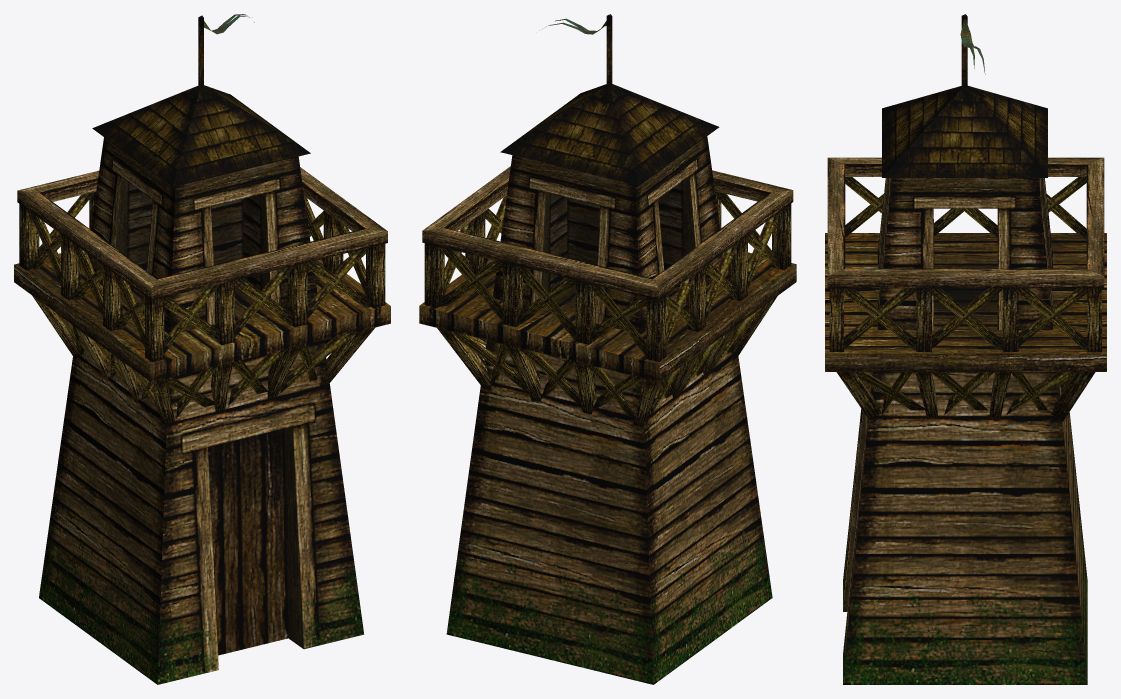
The model's file is DefenseTowerFBX.fbx.
3 views of the same model, side by side, from view 1: azimuth 30°, elevation 25°; view 2: azimuth 150°, elevation 25°; view 3: azimuth 270°, elevation 25° (orthographic). The views are drawn at different scales.
Visible parts, largest first — view 1: flag; view 2: flag; view 3: flag.
Boxes of the visible parts, box(x1,y1,x2,y2) form: flag: box(14, 14, 390, 684); flag: box(419, 14, 796, 684); flag: box(825, 14, 1106, 684).
Size of the model in its own units: 2.07 by 4.94 by 2.04.
